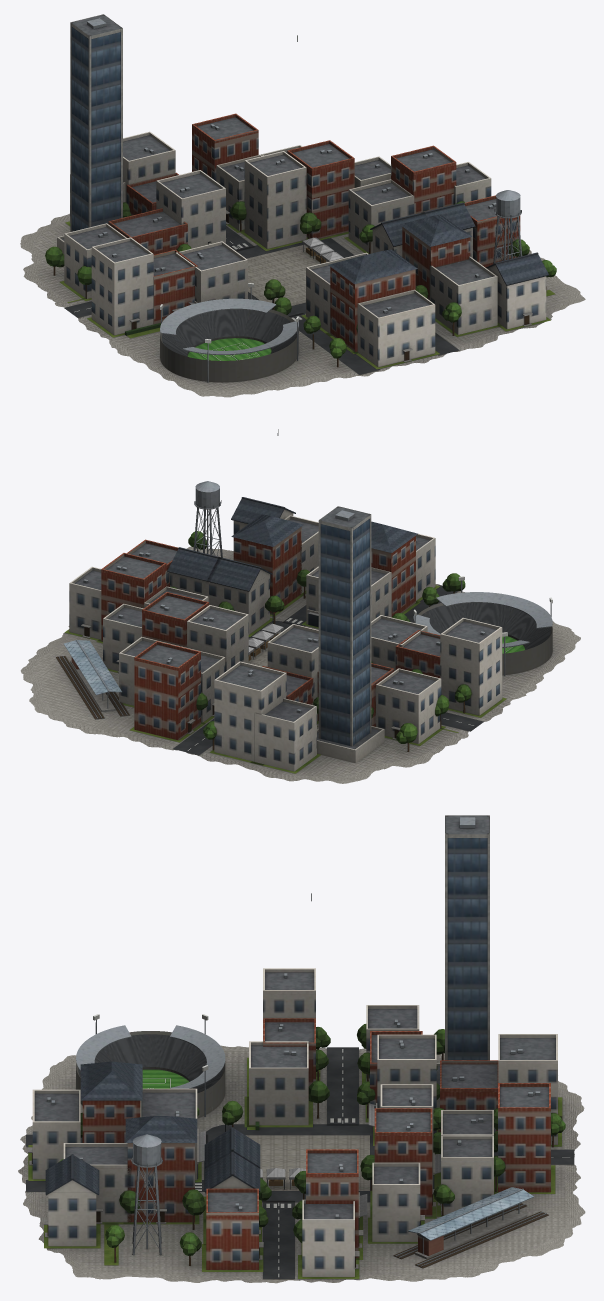
Rendered from modern-town-big-a.glb.
3 views of the same model, one above another, from view 1: azimuth 30°, elevation 25°; view 2: azimuth 150°, elevation 25°; view 3: azimuth 270°, elevation 25° (orthographic). The views are drawn at different scales.
Visible parts, largest first — view 1: LOD0; view 2: LOD0; view 3: LOD0.
Part boxes in pixels (x1=…): LOD0: x1=20, y1=14, x2=585, y2=397; LOD0: x1=20, y1=429, x2=580, y2=783; LOD0: x1=18, y1=815, x2=585, y2=1283.
Size of what is drawn, in the model's own units: 8.04 by 4.3 by 8.09.
Materials: 3 (3 with a texture image).
